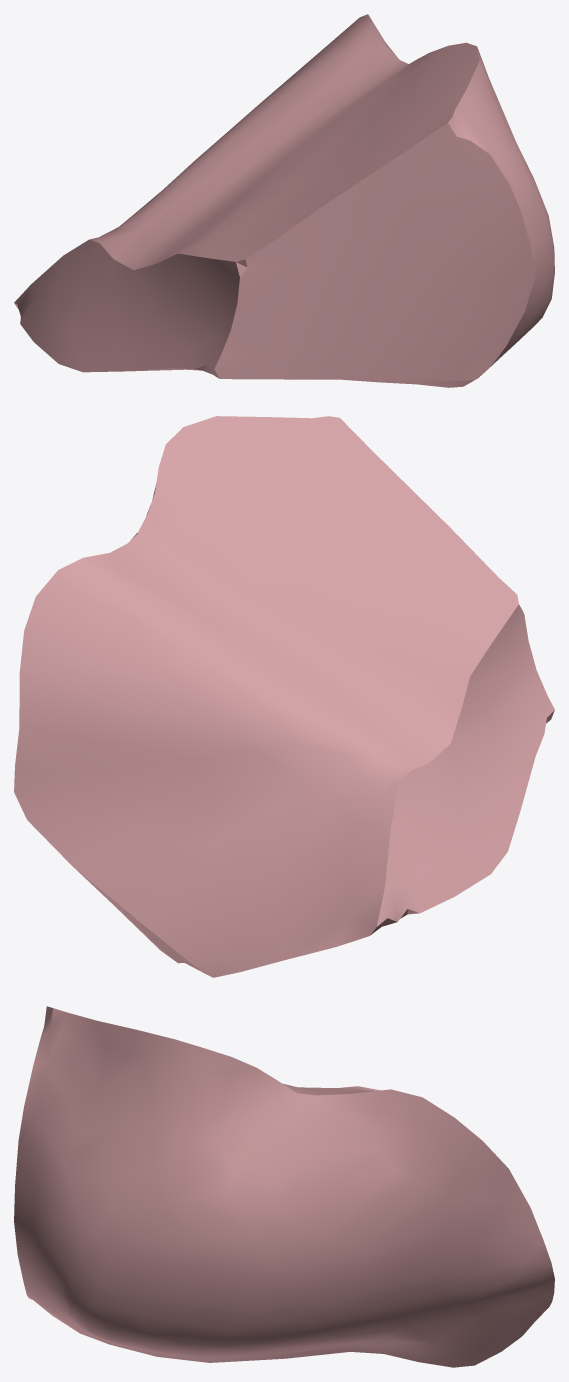
The model's file is fma274757_mm3287.glb.
3 renders of one model, top to bottom at view 1: azimuth 30°, elevation 25°; view 2: azimuth 150°, elevation 25°; view 3: azimuth 270°, elevation 25°, orthographic. The views are drawn at different scales.
Parts seen in each view (by area): view 1: FMA274757_MM3287; view 2: FMA274757_MM3287; view 3: FMA274757_MM3287.
Boxes of the visible parts, box(x1,y1,x2,y2) form: FMA274757_MM3287: box(14, 14, 554, 387); FMA274757_MM3287: box(14, 416, 554, 977); FMA274757_MM3287: box(14, 1006, 554, 1367).
Bounding box in the file's own units: 0.00868 × 0.00716 × 0.00917.
